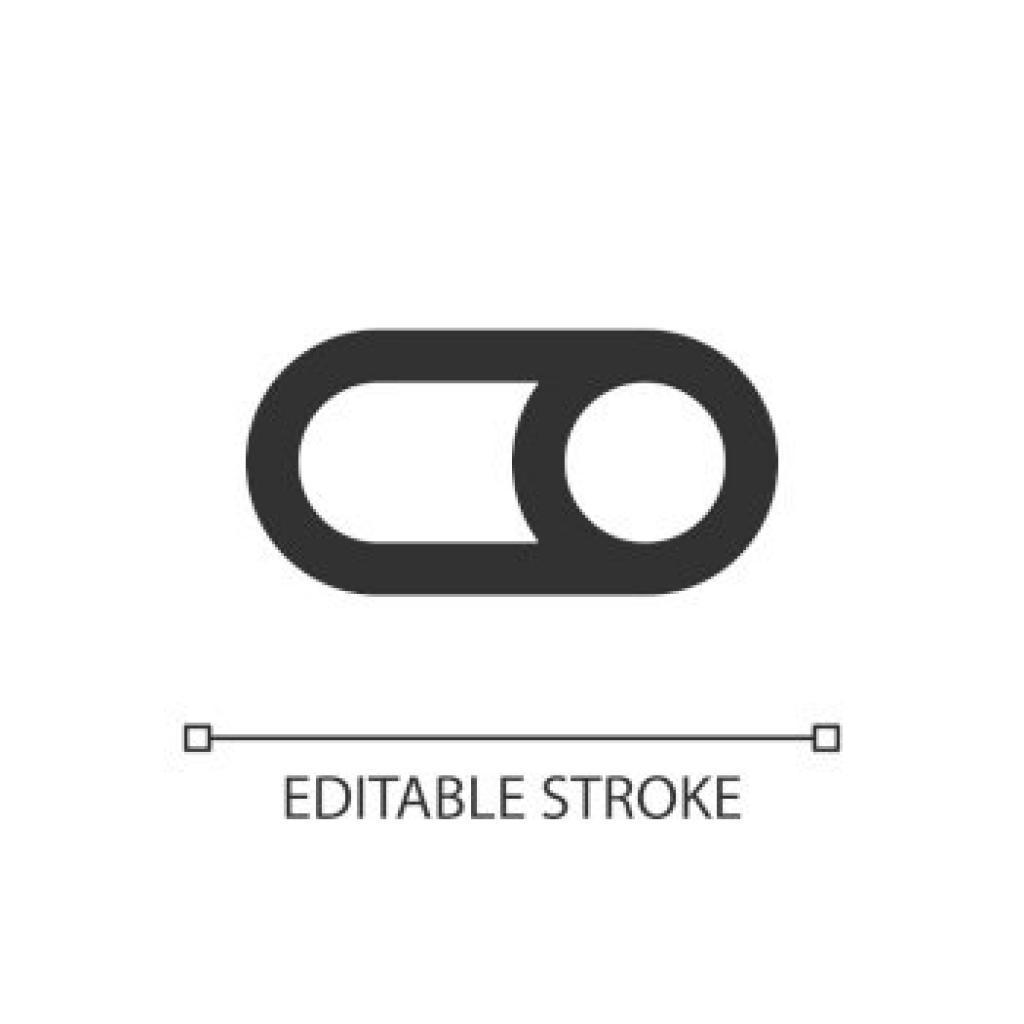switch: (229, 315, 790, 602)
